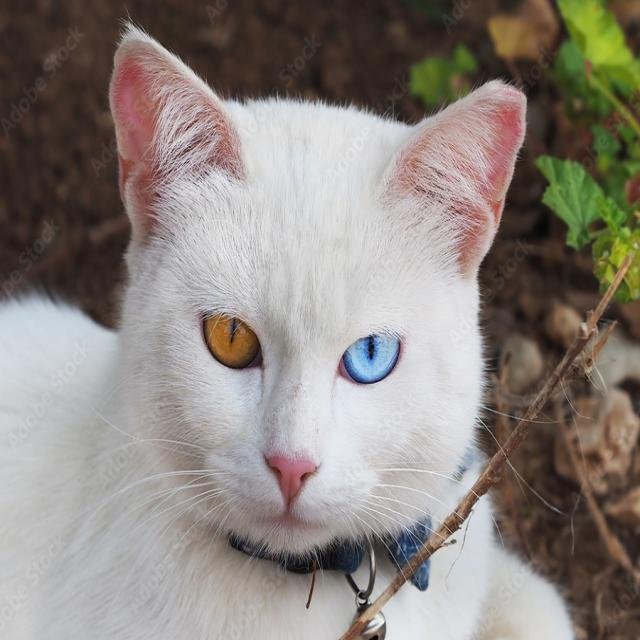Khao Manee: (0, 24, 586, 640)
